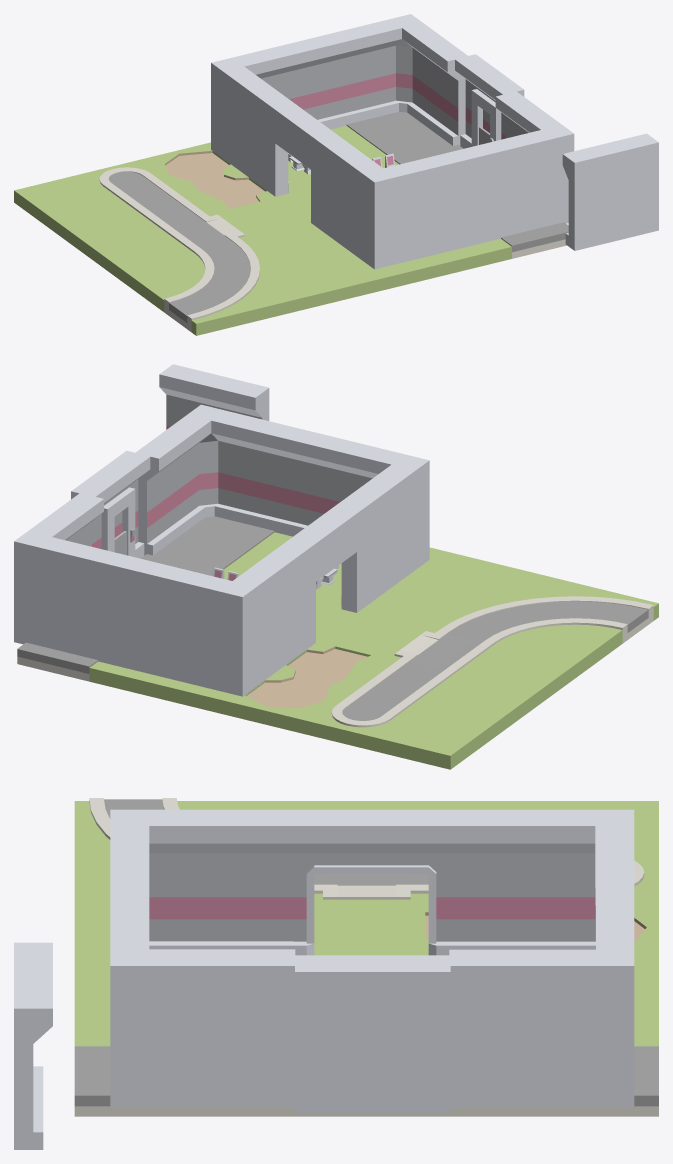
File: kitchen-floor.dae
The picture shows the model from 3 angles, top to bottom: view 1: azimuth 30°, elevation 25°; view 2: azimuth 150°, elevation 25°; view 3: azimuth 270°, elevation 25°; orthographic projection. The views are drawn at different scales.
Visible parts, largest first — view 1: Mesh1_Group1_Model_0002, Mesh1_Group1_Model_002, Mesh1_Group1_Model_003, Mesh1_Group1_Model_0092, Mesh1_Group1_Model_0252, Mesh1_Group1_Model_0102, __04, __05, __03, __32, __24, __43 (+18 smaller); view 2: Mesh1_Group1_Model_0092, Mesh1_Group1_Model_003, Mesh1_Group1_Model_002, Mesh1_Group1_Model_0002, Mesh1_Group1_Model_0102, __43, Mesh1_Group1_Model_0252, __44, __45, __15, __32, __24 (+19 smaller); view 3: Mesh1_Group1_Model_003, Mesh1_Group1_Model_002, Mesh1_Group1_Model_001, Mesh1_Group1_Model_0092, Mesh1_Group1_Model_0002, Mesh1_Group1_Model_0102, Mesh1_Group1_Model_0252, __23, Mesh1_Group1_Model_0032, __25, __04, Mesh1_Group1_Model_033 (+15 smaller).
Part boxes in pixels (x1,y1,x2,y2): Mesh1_Group1_Model_0002: [316, 135, 474, 269]; Mesh1_Group1_Model_002: [311, 14, 468, 145]; Mesh1_Group1_Model_003: [462, 91, 574, 244]; Mesh1_Group1_Model_0092: [211, 38, 323, 191]; Mesh1_Group1_Model_0252: [562, 133, 658, 250]; Mesh1_Group1_Model_0102: [269, 100, 338, 226]; __04: [160, 280, 259, 335]; __05: [223, 266, 322, 320]; __03: [286, 251, 385, 304]; __32: [50, 201, 149, 255]; __24: [87, 228, 185, 281]; __43: [14, 175, 112, 228]; Mesh1_Group1_Model_0092: [128, 543, 308, 696]; Mesh1_Group1_Model_003: [135, 404, 314, 555]; Mesh1_Group1_Model_002: [14, 493, 141, 668]; Mesh1_Group1_Model_0002: [301, 432, 429, 607]; Mesh1_Group1_Model_0102: [285, 503, 363, 647]; __43: [378, 708, 492, 769]; Mesh1_Group1_Model_0252: [159, 364, 269, 429]; __44: [306, 690, 419, 751]; __45: [234, 672, 347, 734]; __15: [503, 615, 617, 677]; __32: [420, 677, 533, 738]; __24: [462, 647, 575, 708]; Mesh1_Group1_Model_003: [110, 887, 295, 1107]; Mesh1_Group1_Model_002: [449, 888, 634, 1107]; Mesh1_Group1_Model_001: [295, 955, 450, 1112]; Mesh1_Group1_Model_0092: [449, 809, 634, 949]; Mesh1_Group1_Model_0002: [110, 809, 295, 949]; Mesh1_Group1_Model_0102: [293, 809, 449, 955]; Mesh1_Group1_Model_0252: [14, 942, 52, 1149]; __23: [314, 899, 425, 948]; Mesh1_Group1_Model_0032: [74, 1046, 191, 1116]; __25: [314, 874, 425, 899]; __04: [74, 798, 191, 850]; Mesh1_Group1_Model_033: [542, 1046, 658, 1116].
Bounding box in the file's own units: 21.08 × 16.55 × 4.5.
